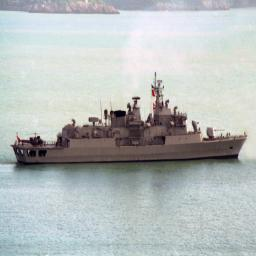Fragata: (11, 68, 250, 168)
